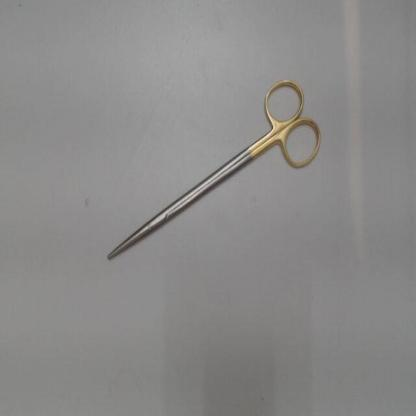7 Metzenbaum Scissors: (108, 76, 324, 262)
